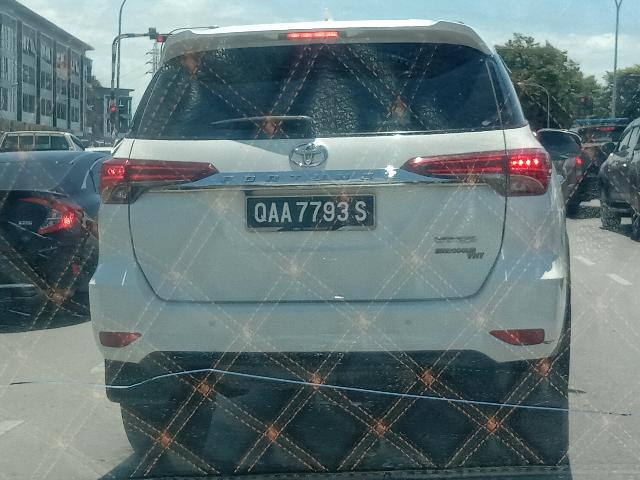License_Plate: (248, 196, 377, 232)
car: (86, 18, 582, 480)
